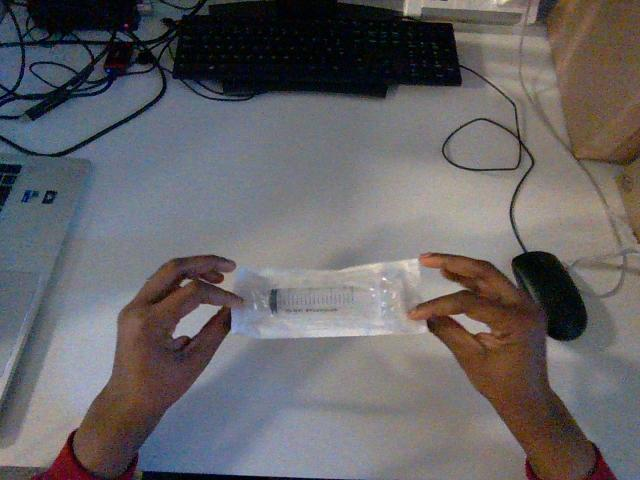syringe: (231, 260, 425, 337)
